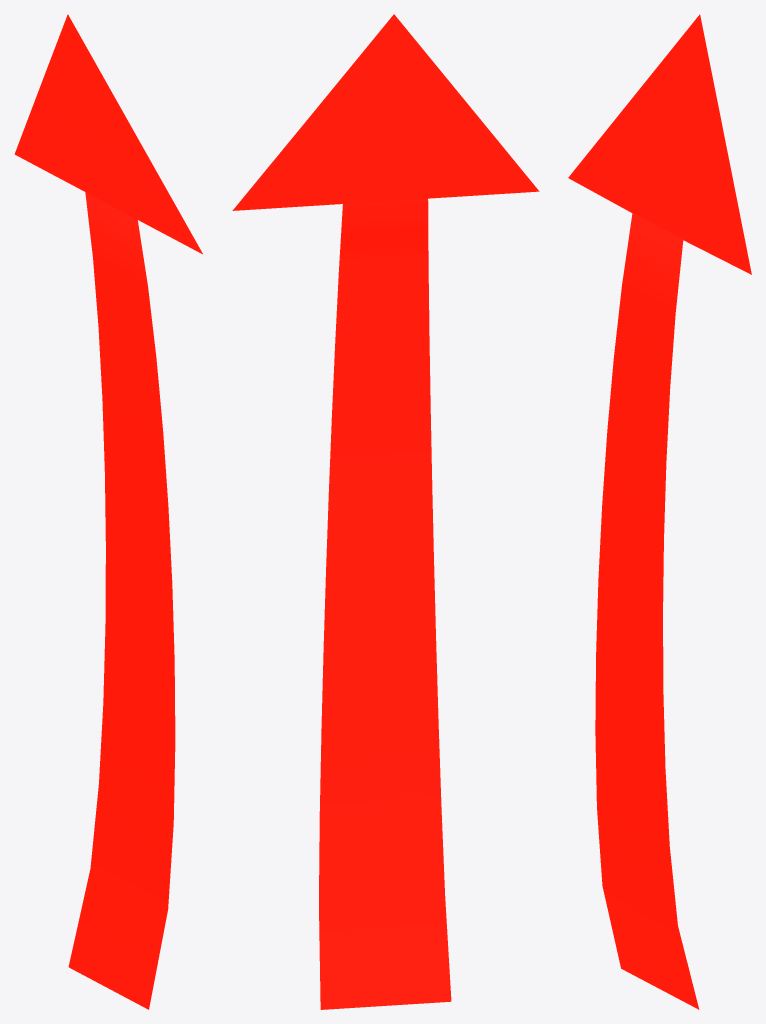
File: flightpath_noalpha.glb
3 views of the same model, side by side, from view 1: azimuth 90°, elevation 25°; view 2: azimuth 150°, elevation 25°; view 3: azimuth 270°, elevation 25° (orthographic). The views are drawn at different scales.
Parts seen in each view (by area): view 1: Plane; view 2: Plane; view 3: Plane.
Boxes of the visible parts, bbox=[...] form: Plane: bbox=[14, 14, 202, 1009]; Plane: bbox=[232, 14, 539, 1009]; Plane: bbox=[568, 14, 751, 1009].
Size of what is drawn, in the model's own units: 0.0156 by 0.072 by 0.0125.
